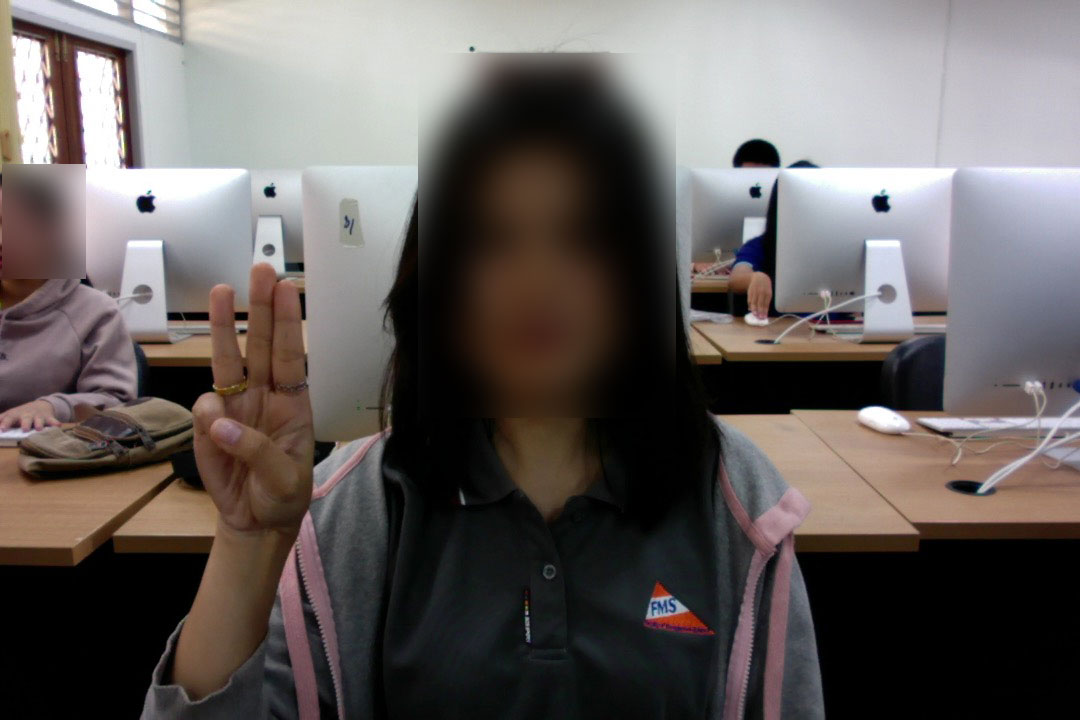wor: (180, 258, 330, 542)
